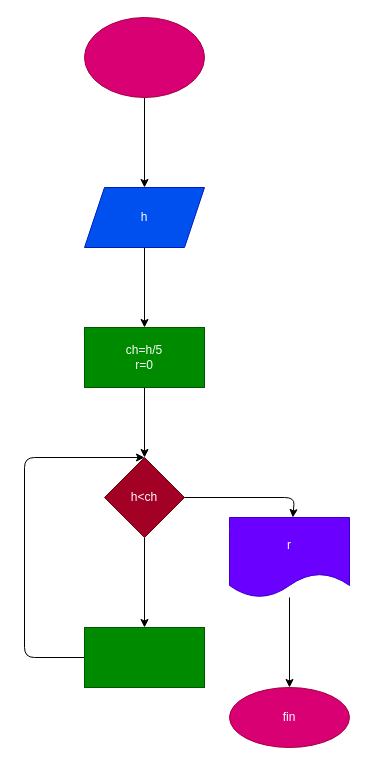
This 367x765 diagram has some shape labels left out. Here are the shapes that lost their labels. From the top down, the centre of each, then its label:
point 144,57: inicio
point 144,657: h=h-(h*0,10) r=r+1
